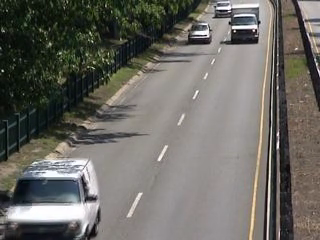car: (187, 23, 215, 46), (213, 1, 233, 20)
truck: (3, 155, 104, 240), (228, 2, 261, 43)
